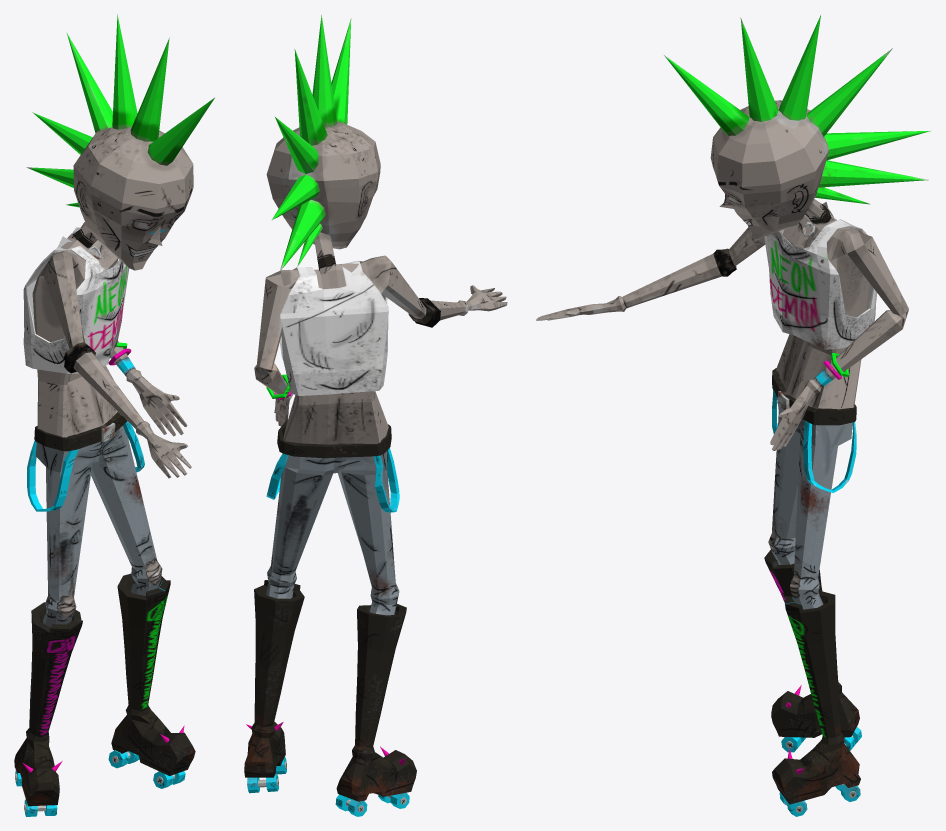
Rendered from punkAnimation_000005.obj.
3 views of the same model, side by side, from view 1: azimuth 30°, elevation 25°; view 2: azimuth 150°, elevation 25°; view 3: azimuth 270°, elevation 25° (orthographic). The views are drawn at different scales.
Parts seen in each view (by area): view 1: Cube.004_Cube.003; view 2: Cube.004_Cube.003; view 3: Cube.004_Cube.003.
Boxes of the visible parts, left/top/right/bottom form: Cube.004_Cube.003: left=14, top=14, right=214, bottom=816; Cube.004_Cube.003: left=244, top=15, right=507, bottom=816; Cube.004_Cube.003: left=536, top=15, right=931, bottom=816.
Size of the model in its own units: 1.69 by 7.5 by 3.44.
